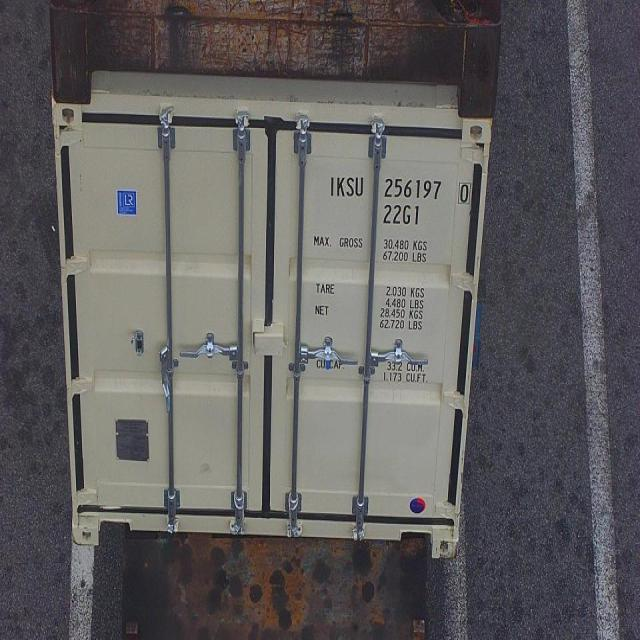ISO: (384, 204, 422, 226)
container_number: (332, 174, 474, 201)
